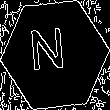N_S: (35, 28, 75, 82)
